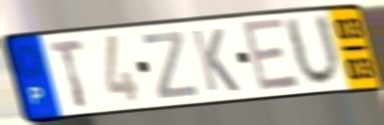4: (104, 32, 143, 107)
E: (238, 16, 304, 96)
K: (189, 26, 242, 94)
T: (46, 37, 90, 111)
U: (281, 11, 344, 90)
Z: (140, 28, 200, 101)
